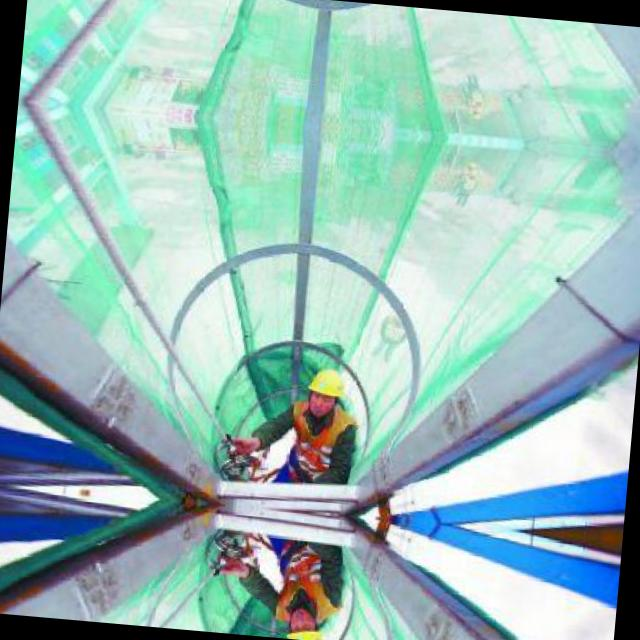helmet: (297, 358, 348, 422), (278, 600, 328, 640)
